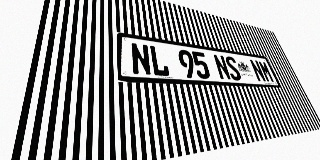5: (191, 51, 211, 79)
9: (177, 49, 198, 78)
L: (149, 45, 170, 77)
M: (258, 60, 275, 83)
N: (130, 42, 152, 76), (212, 54, 232, 80), (249, 59, 267, 82)
S: (224, 56, 243, 81)
